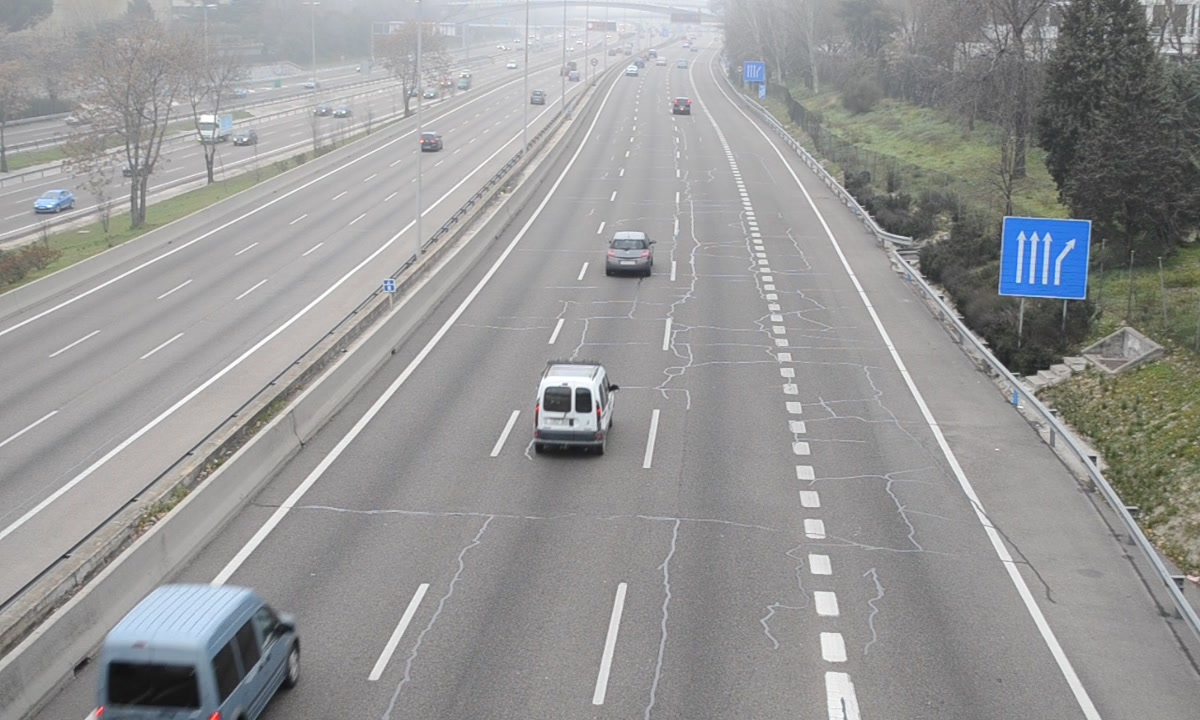car: (605, 231, 654, 273)
van: (97, 585, 298, 720), (537, 363, 615, 449)
